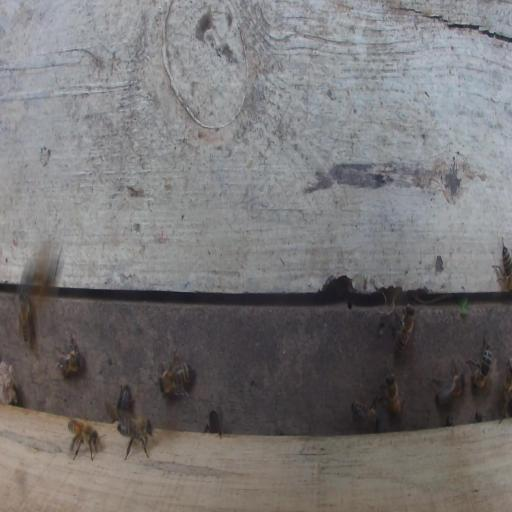bee: (116, 405, 154, 460), (158, 347, 194, 404), (68, 402, 101, 462), (430, 357, 466, 408), (466, 332, 495, 390), (51, 331, 84, 378), (388, 302, 415, 359), (349, 393, 382, 436), (104, 380, 136, 424), (378, 371, 403, 420), (18, 286, 37, 346), (492, 233, 510, 294), (497, 364, 512, 414), (203, 408, 224, 441)
